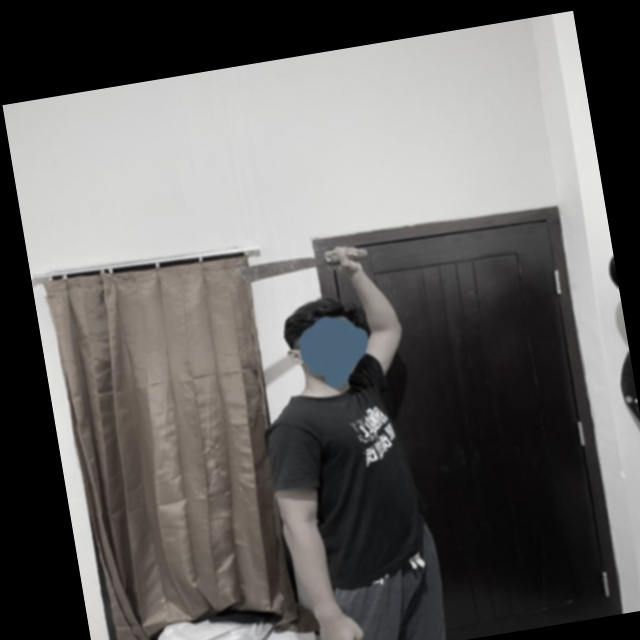Sharp-Object: (234, 243, 373, 287)
